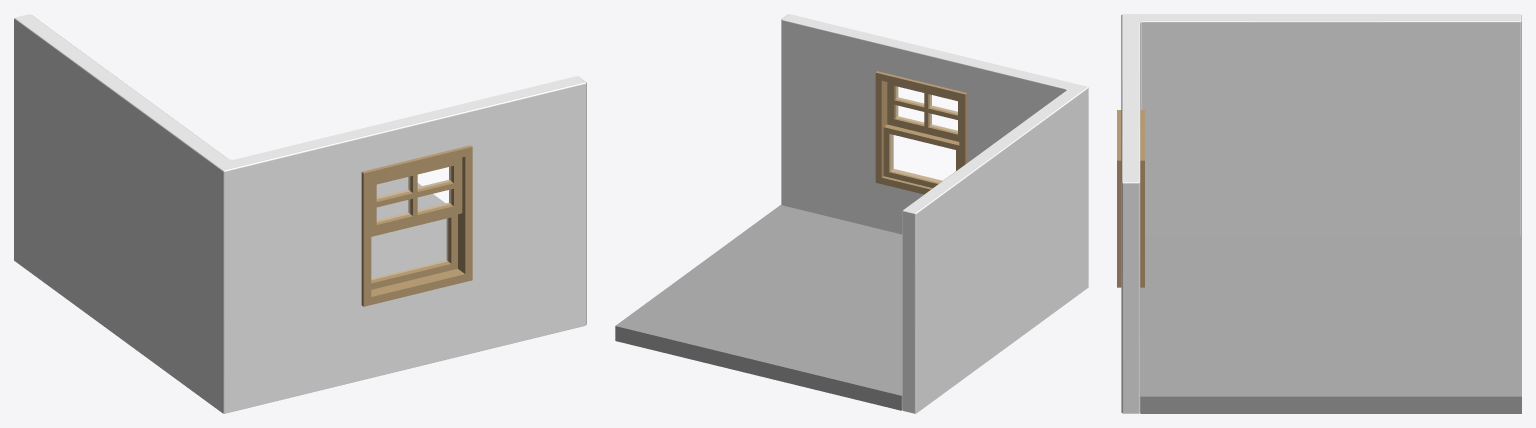
File: room_frame.glb
The picture shows the model from 3 angles, left to right: view 1: azimuth 30°, elevation 25°; view 2: azimuth 150°, elevation 25°; view 3: azimuth 270°, elevation 25°; orthographic projection. The views are drawn at different scales.
Parts seen in each view (by area): view 1: Wall, Window, Floor; view 2: Wall, Floor, Window; view 3: Wall, Floor, Window.
Boxes of the visible parts, box(x1,y1,x2,y2) form: Wall: box(14, 14, 586, 413); Window: box(361, 145, 472, 306); Floor: box(371, 177, 446, 278); Wall: box(781, 14, 1088, 413); Floor: box(615, 205, 902, 410); Window: box(875, 71, 967, 194); Wall: box(1121, 14, 1521, 413); Floor: box(1140, 235, 1521, 413); Window: box(1117, 110, 1144, 287).
Bounding box in the file's own units: 8.4 × 5.37 × 8.49.
